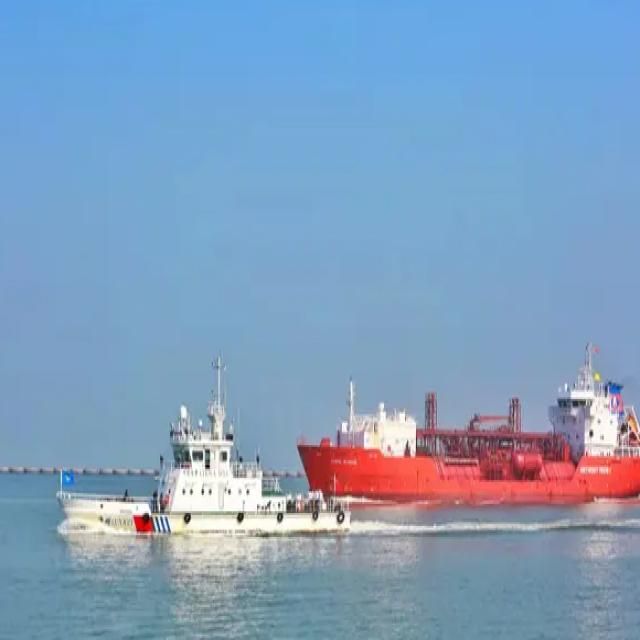cargoship: (292, 327, 640, 517)
houseboat: (54, 310, 354, 548)
